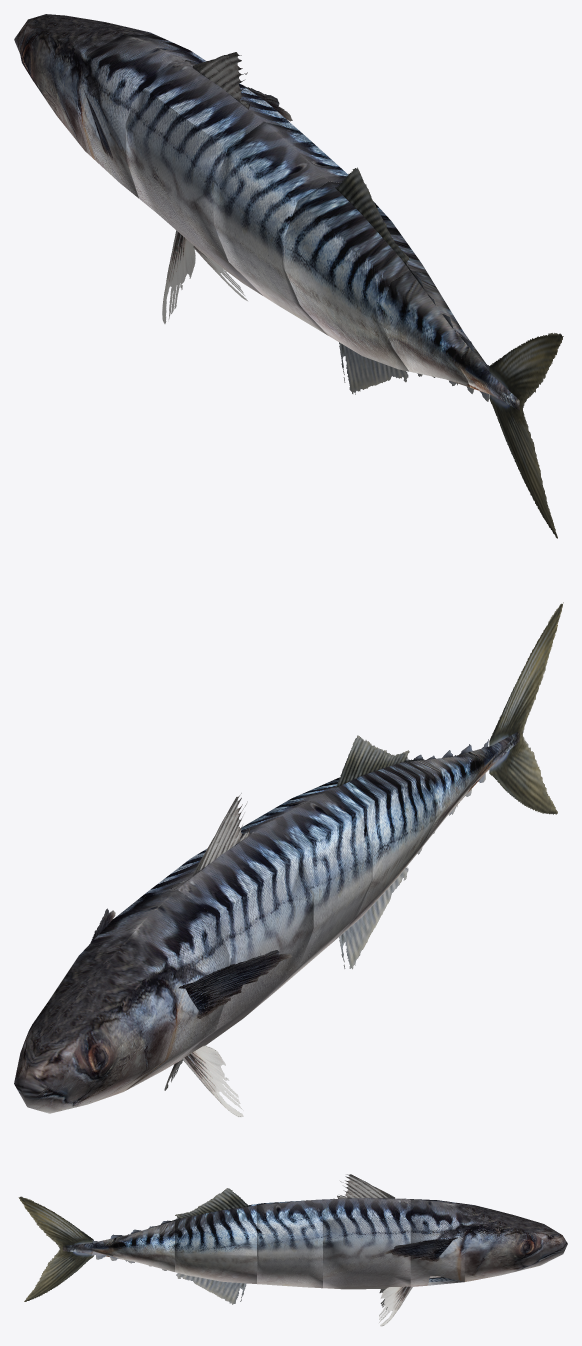
The model's file is sectioned_mackerel.fbx.
3 renders of one model, top to bottom at view 1: azimuth 30°, elevation 25°; view 2: azimuth 150°, elevation 25°; view 3: azimuth 270°, elevation 25°, orthographic. The views are drawn at different scales.
Parts seen in each view (by area): view 1: mackerel.003, mackerel.005, mackerel.004, mackerel.002, mackerel, mackerel.006, mackerel.001; view 2: mackerel.001, mackerel.003, mackerel.002, mackerel.005, mackerel.004, mackerel, mackerel.006; view 3: mackerel.003, mackerel.005, mackerel.004, mackerel.001, mackerel.002, mackerel, mackerel.006.
Part boxes in pixels (left/top/right/bottom): mackerel.003: left=125, top=52, right=298, bottom=323; mackerel.005: left=284, top=167, right=427, bottom=394; mackerel.004: left=213, top=122, right=348, bottom=335; mackerel.002: left=76, top=34, right=292, bottom=198; mackerel: left=459, top=333, right=563, bottom=538; mackerel.006: left=382, top=260, right=477, bottom=392; mackerel.001: left=14, top=14, right=159, bottom=153; mackerel.001: left=14, top=943, right=172, bottom=1113; mackerel.003: left=140, top=793, right=313, bottom=1116; mackerel.002: left=88, top=889, right=292, bottom=1090; mackerel.005: left=299, top=735, right=436, bottom=969; mackerel.004: left=241, top=791, right=372, bottom=1000; mackerel: left=469, top=602, right=563, bottom=814; mackerel.006: left=409, top=744, right=481, bottom=860; mackerel.003: left=323, top=1174, right=412, bottom=1326; mackerel.005: left=175, top=1188, right=256, bottom=1304; mackerel.004: left=257, top=1199, right=322, bottom=1288; mackerel.001: left=464, top=1204, right=567, bottom=1281; mackerel.002: left=384, top=1199, right=464, bottom=1286; mackerel: left=18, top=1196, right=113, bottom=1301; mackerel.006: left=113, top=1220, right=174, bottom=1271.
Bounding box in the file's own units: 16.96 × 25.56 × 84.93.
